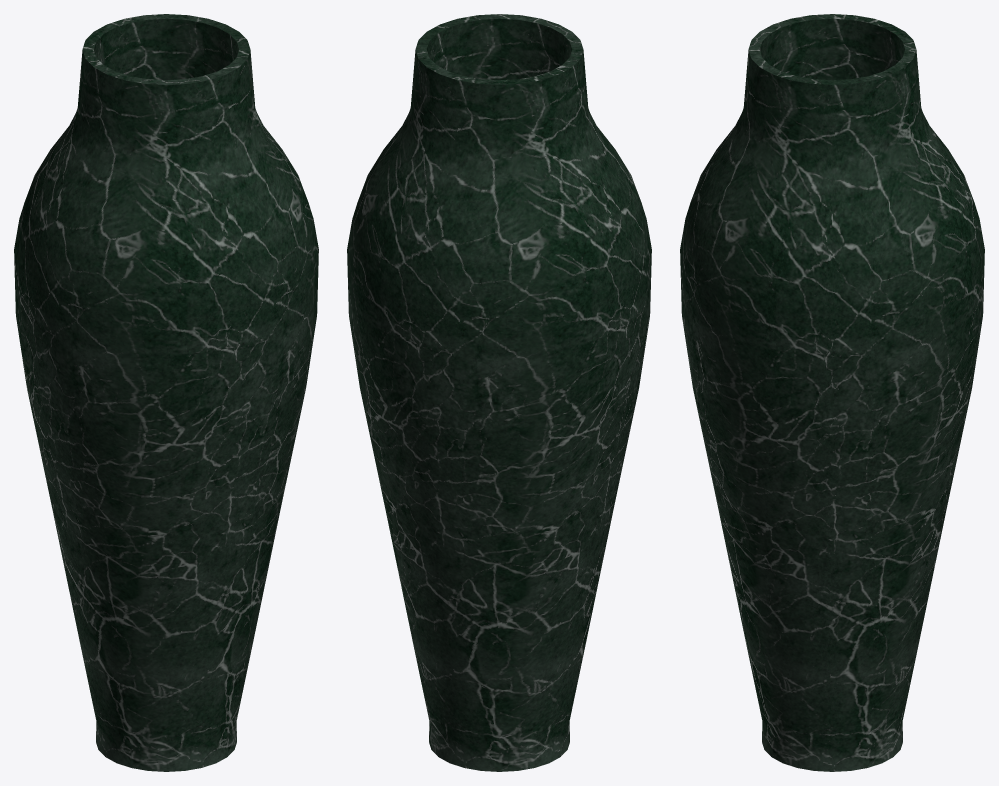
Rendered from Vase.fbx.
3 views of the same model, side by side, from view 1: azimuth 30°, elevation 25°; view 2: azimuth 150°, elevation 25°; view 3: azimuth 270°, elevation 25° (orthographic).
Visible parts, largest first — view 1: Long Vase; view 2: Long Vase; view 3: Long Vase.
Boxes of the visible parts, bbox=[...] form: Long Vase: bbox=[14, 14, 318, 771]; Long Vase: bbox=[347, 14, 651, 771]; Long Vase: bbox=[680, 14, 984, 771].
Bounding box in the file's own units: 41.91 × 105 × 41.91.
